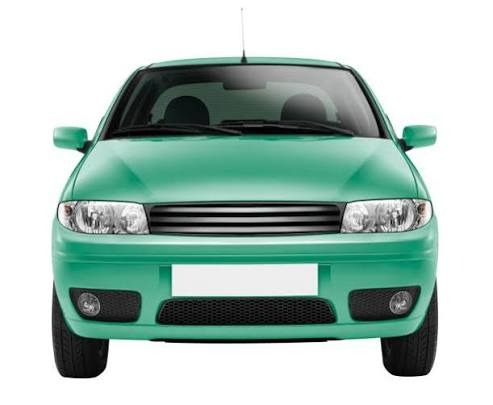car: (44, 42, 433, 381)
